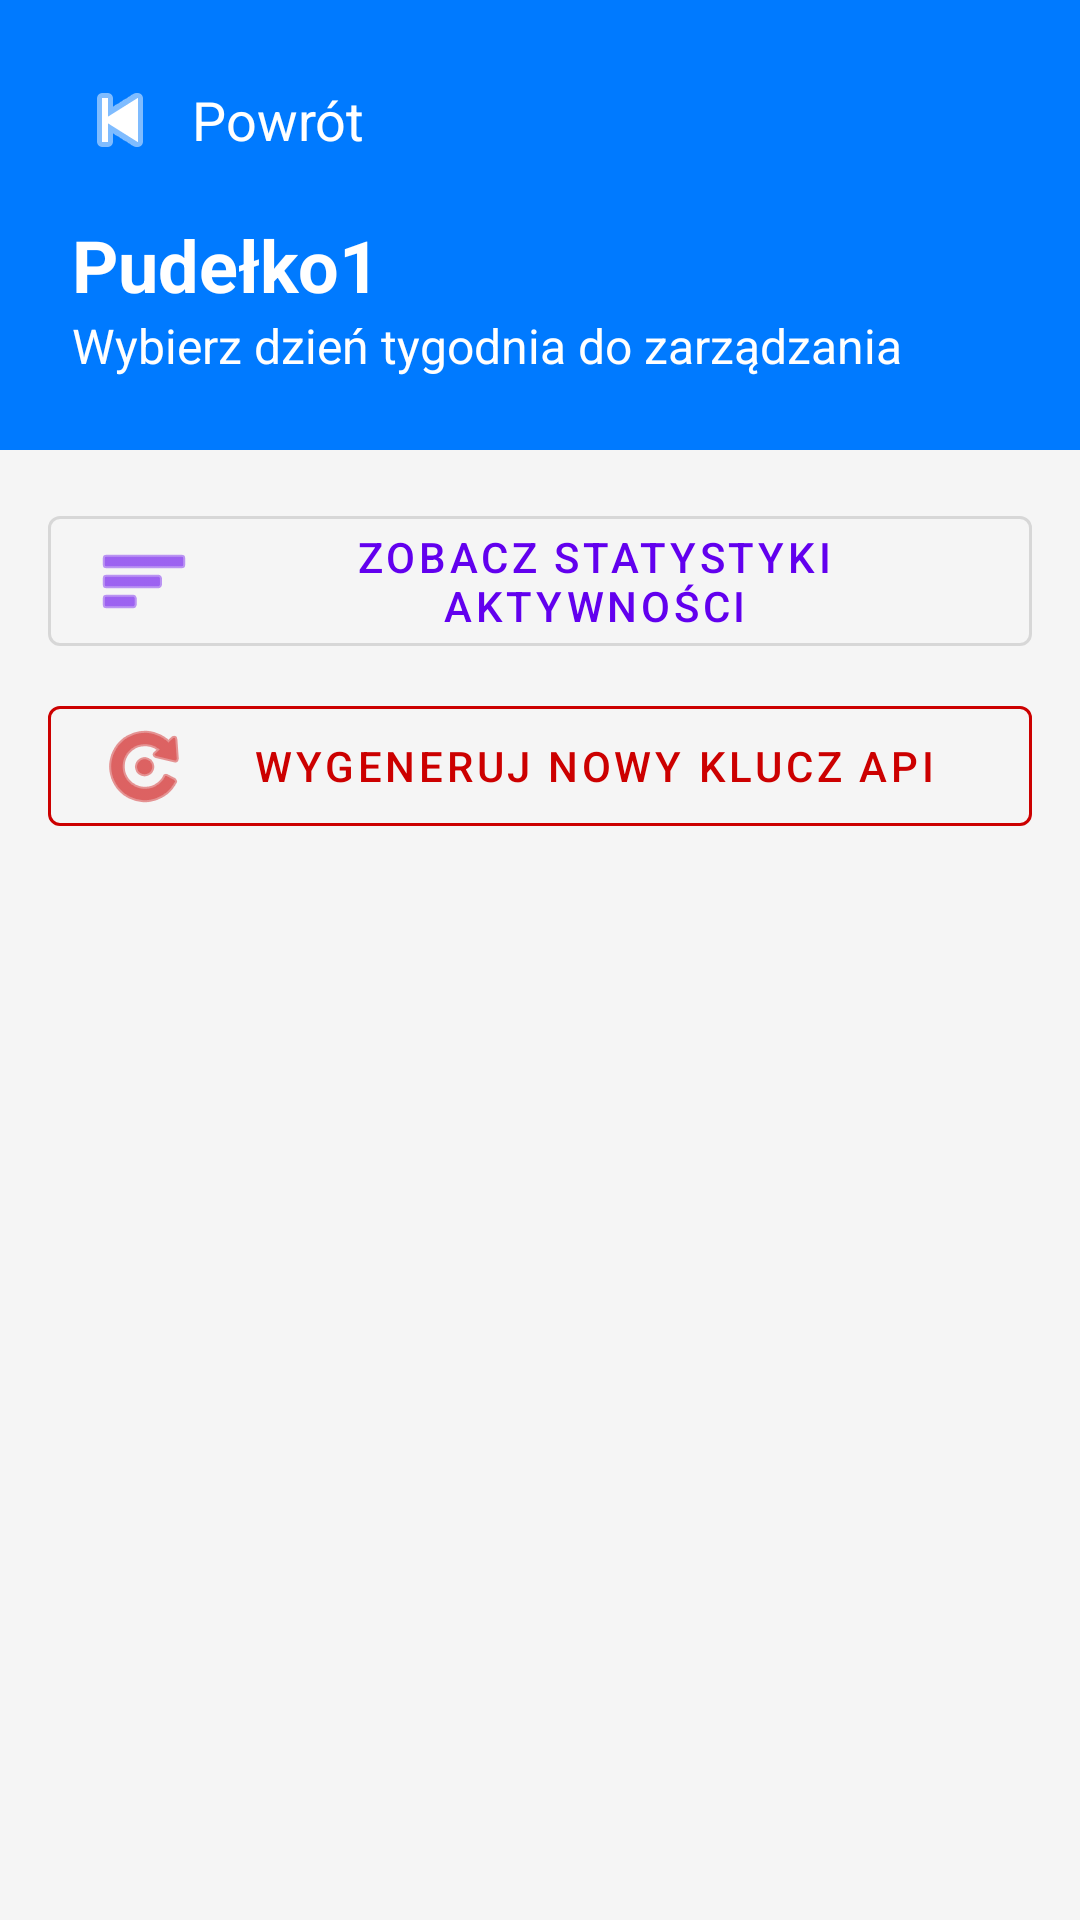

Screen size 1080w x 1920h. Icon name, then its box in pixels as (x1, y1, x2, y2):
previous: (97, 93, 143, 147)
